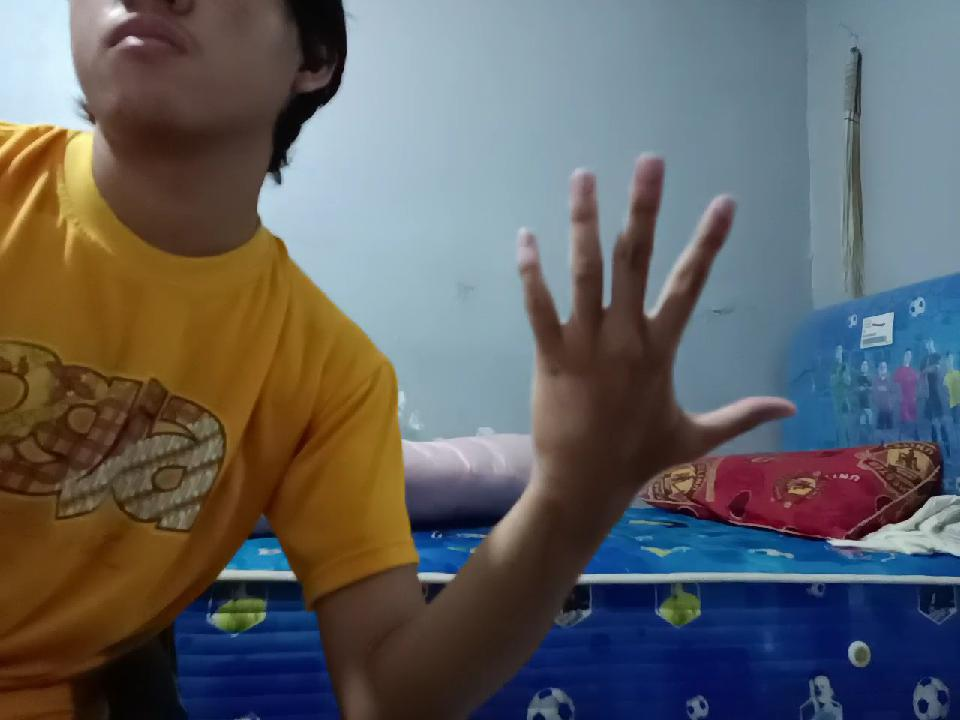paper: (511, 137, 779, 520)
